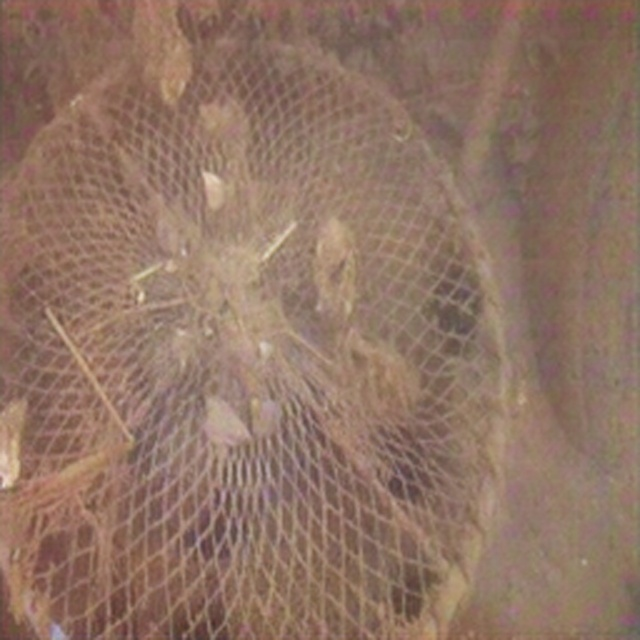mine: (0, 36, 510, 639)
